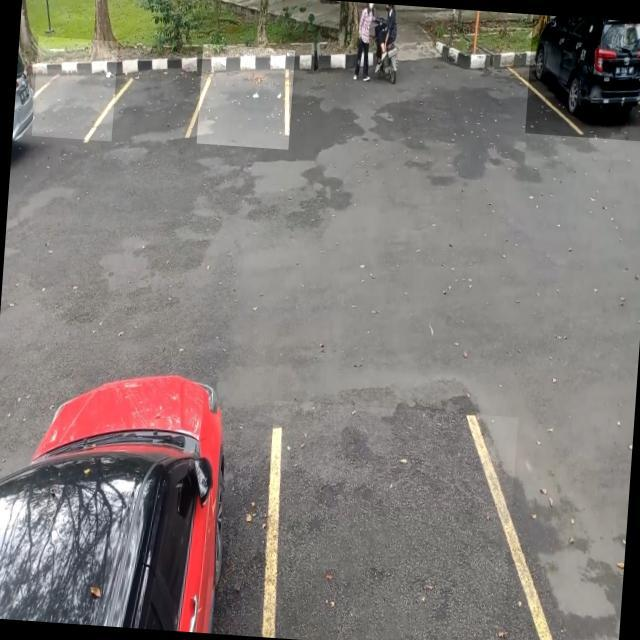empty: (257, 400, 517, 640), (196, 44, 295, 150), (111, 43, 202, 147), (32, 36, 118, 142)
occupied: (524, 14, 640, 141)
